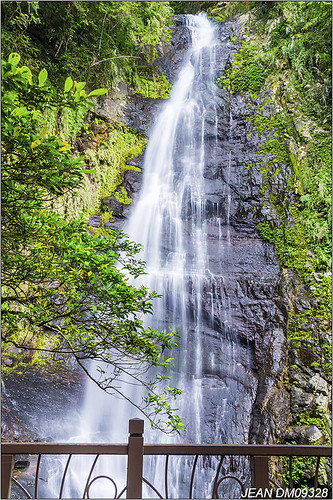wufengciWaterfall: (77, 9, 299, 445)
